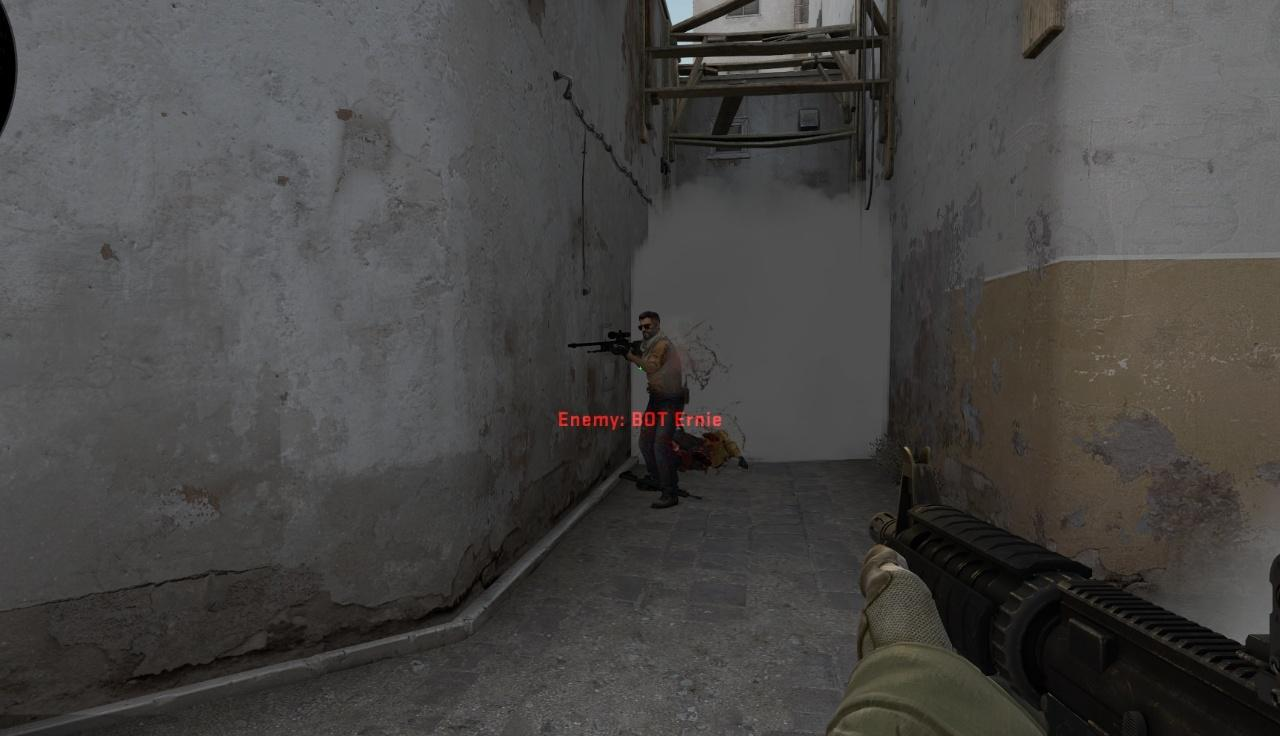rifle: (826, 446, 1280, 736)
tt: (627, 311, 688, 503)
tthead: (638, 312, 660, 339)
